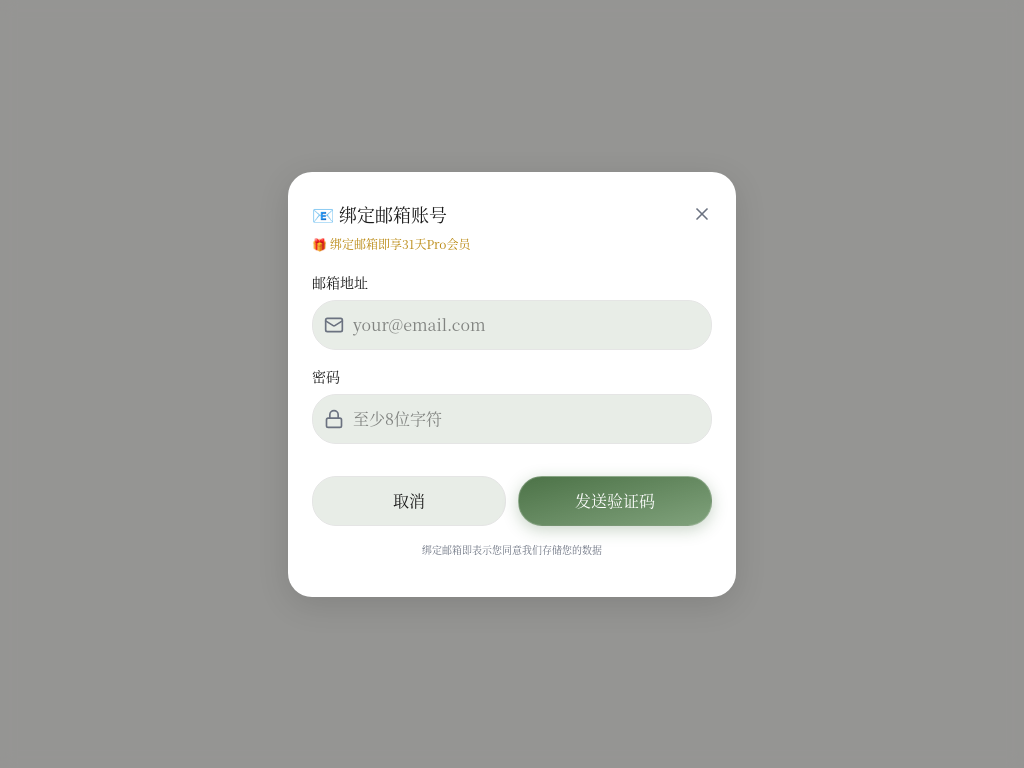
Test: AuthModal — 注册步骤 1 → 步骤 2 流转 › 合法密码 + fetch 失败 → 显示错误，不切换步骤
This screenshot has width=1024, height=768.
Step 1. Type "test@test.com" into the field with placeholder "your@email.com" → (512, 324), box [312,300,712,350]
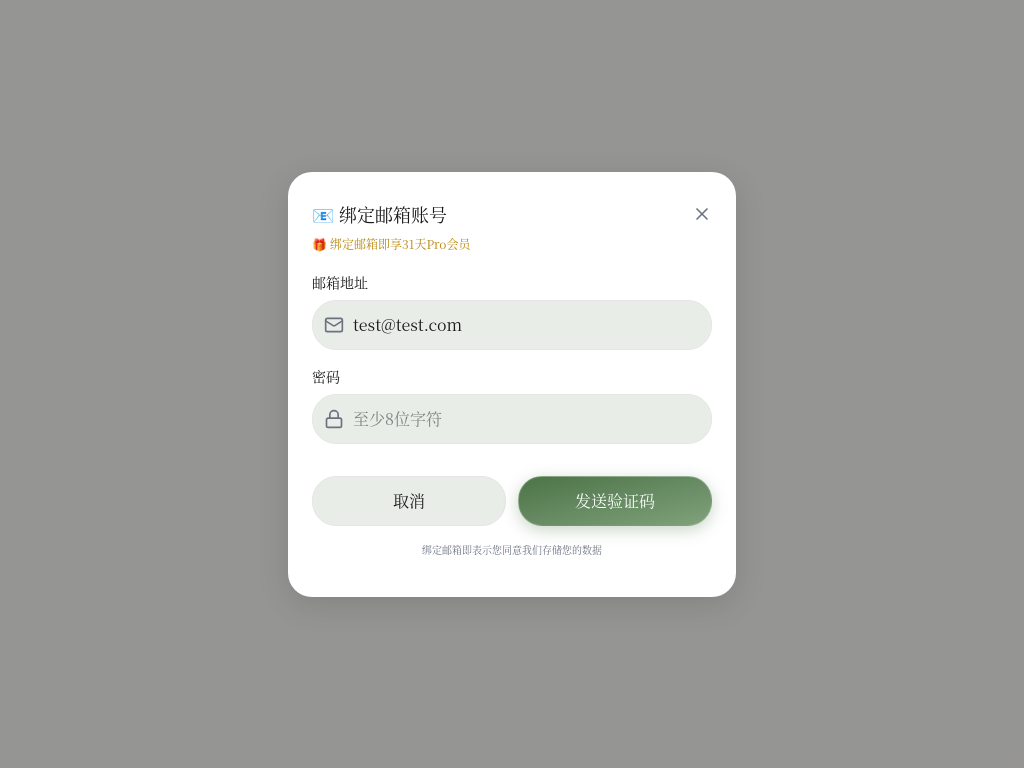
Step 2. Type "Abcd1234" into the password field with placeholder "至少8位字符" → (512, 418), box [312,394,712,444]
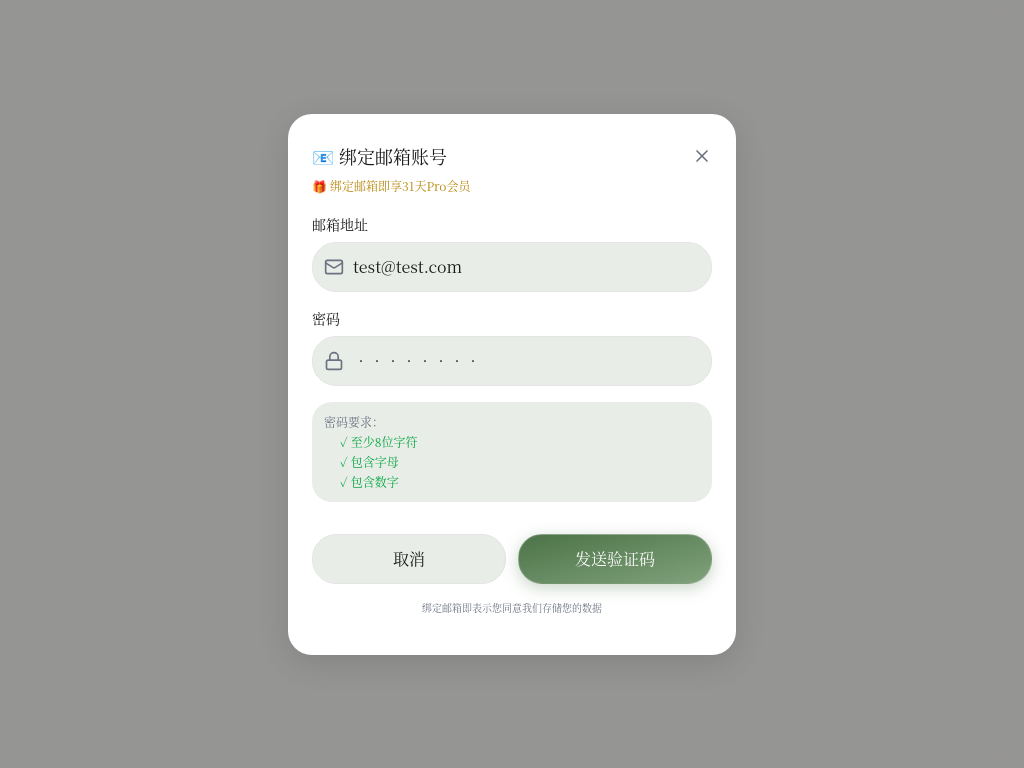
Step 3. Click the button "发送验证码" → (615, 558), box [518,534,712,584]
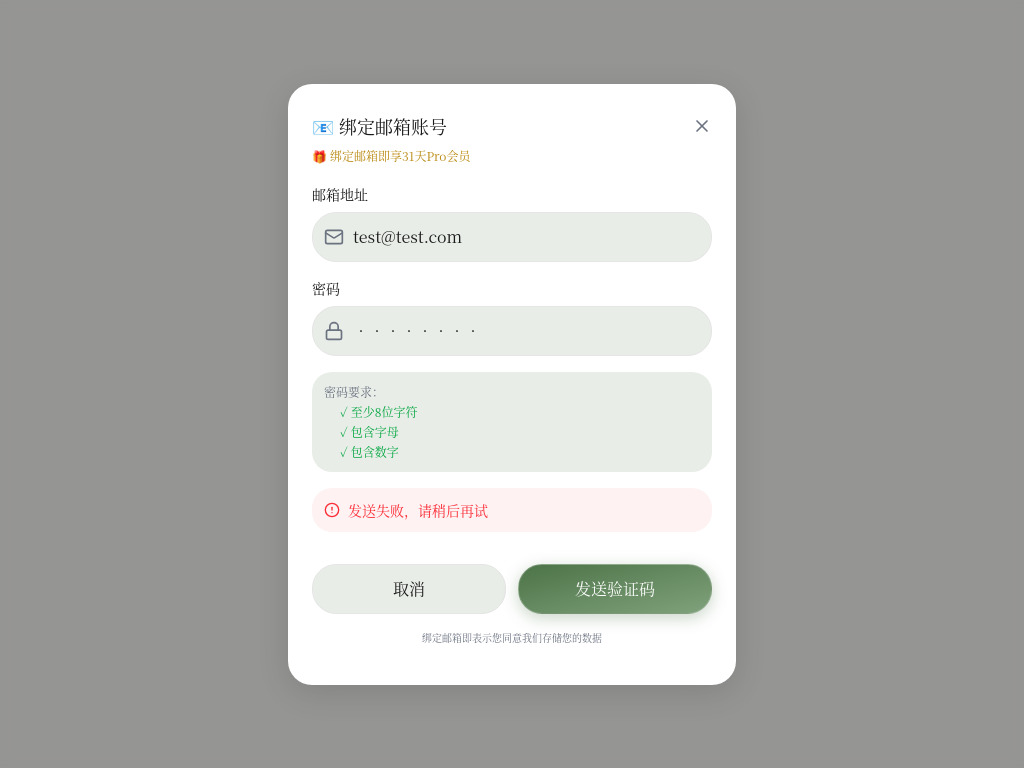
Check: the button "发送验证码" is shown, box [518,564,712,614]
Check: the text "发送失败，请稍后再试" is shown, box [312,488,712,532]
